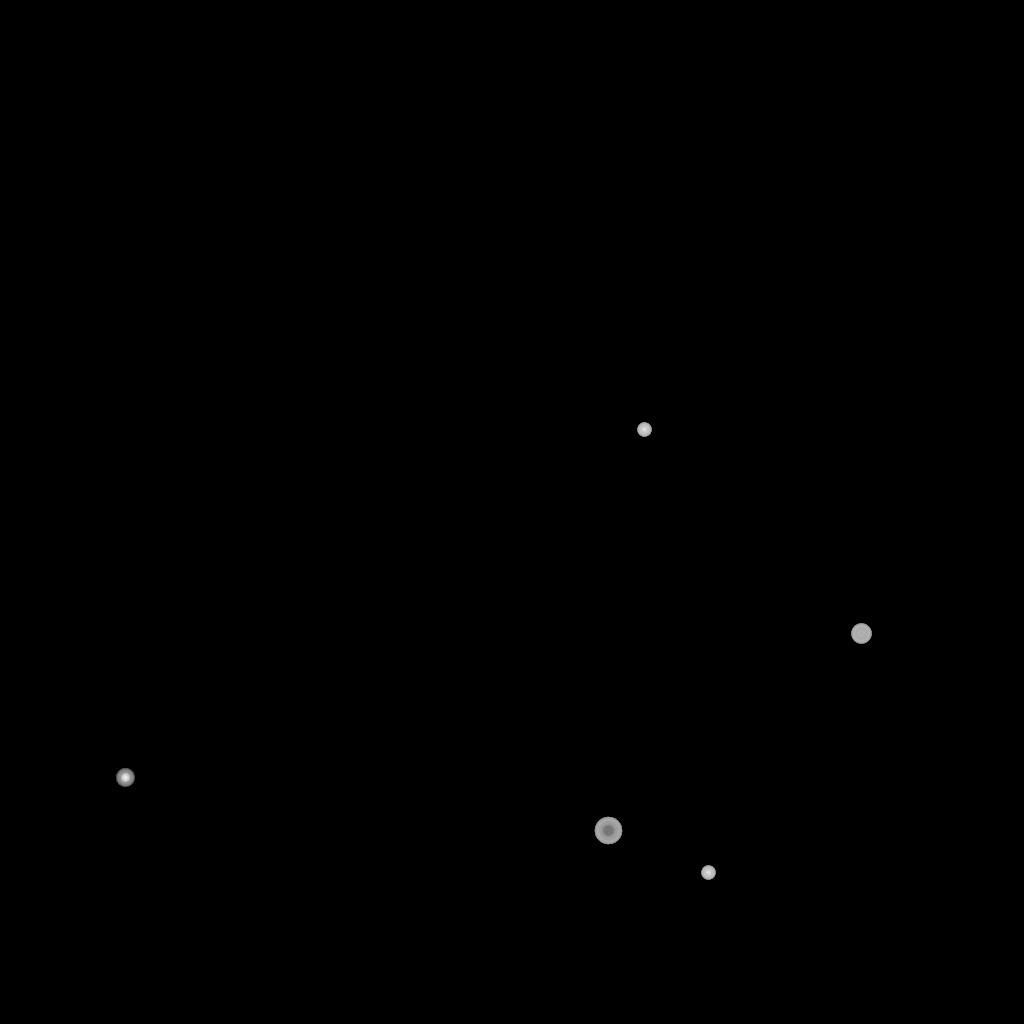depth:-20: (116, 769, 134, 787)
depth:-30: (637, 423, 651, 437), (701, 866, 715, 880)
depth:-40: (851, 624, 871, 644)
depth:-50: (594, 817, 622, 845)
